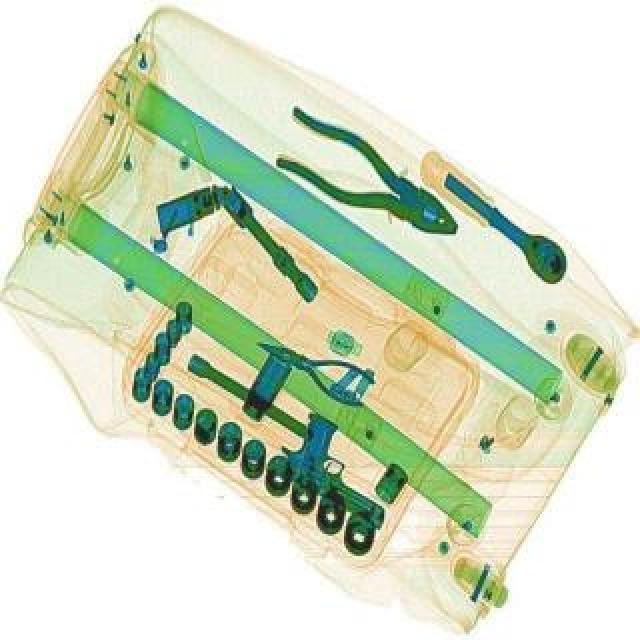gun: (266, 404, 418, 528)
wrench: (260, 100, 476, 256), (244, 320, 378, 410)
